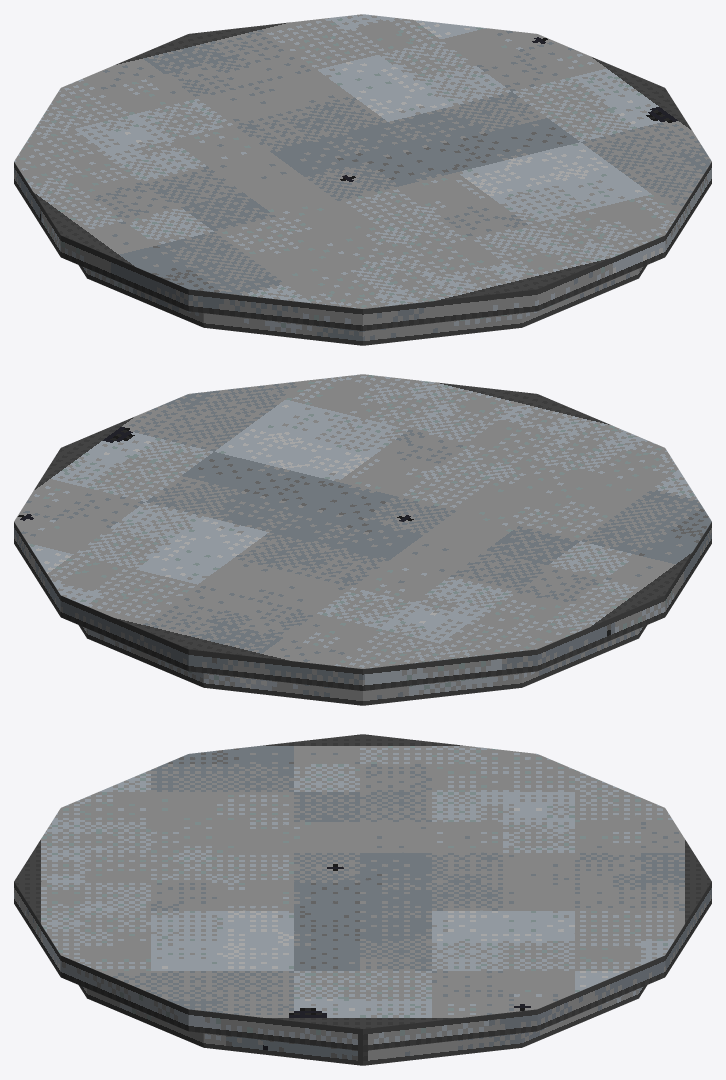
Rendered from SM_Plate_Tin_01.glb.
3 views of the same model, one above another, from view 1: azimuth 30°, elevation 25°; view 2: azimuth 150°, elevation 25°; view 3: azimuth 270°, elevation 25° (orthographic).
Parts seen in each view (by area): view 1: SM_Plate_Tin_01; view 2: SM_Plate_Tin_01; view 3: SM_Plate_Tin_01.
Boxes of the visible parts, left/top/right/bottom form: SM_Plate_Tin_01: left=14, top=14, right=711, bottom=345; SM_Plate_Tin_01: left=14, top=374, right=711, bottom=705; SM_Plate_Tin_01: left=14, top=734, right=711, bottom=1065.
Size of the model in its own units: 0.23 by 0.018 by 0.23.
Materials: 1 (1 with a texture image).
